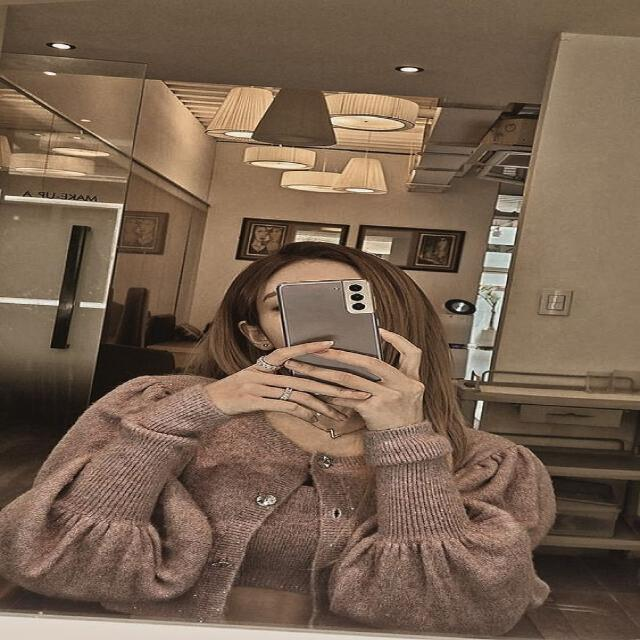phone: (259, 271, 400, 407)
